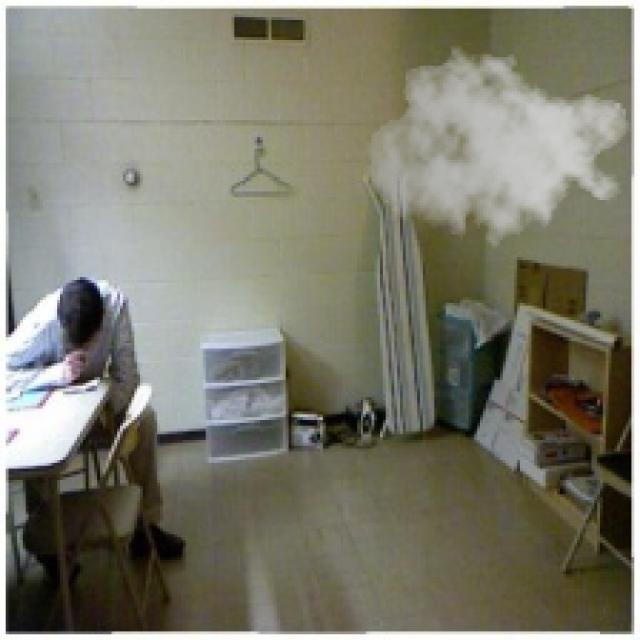smoke: (366, 40, 631, 260)
